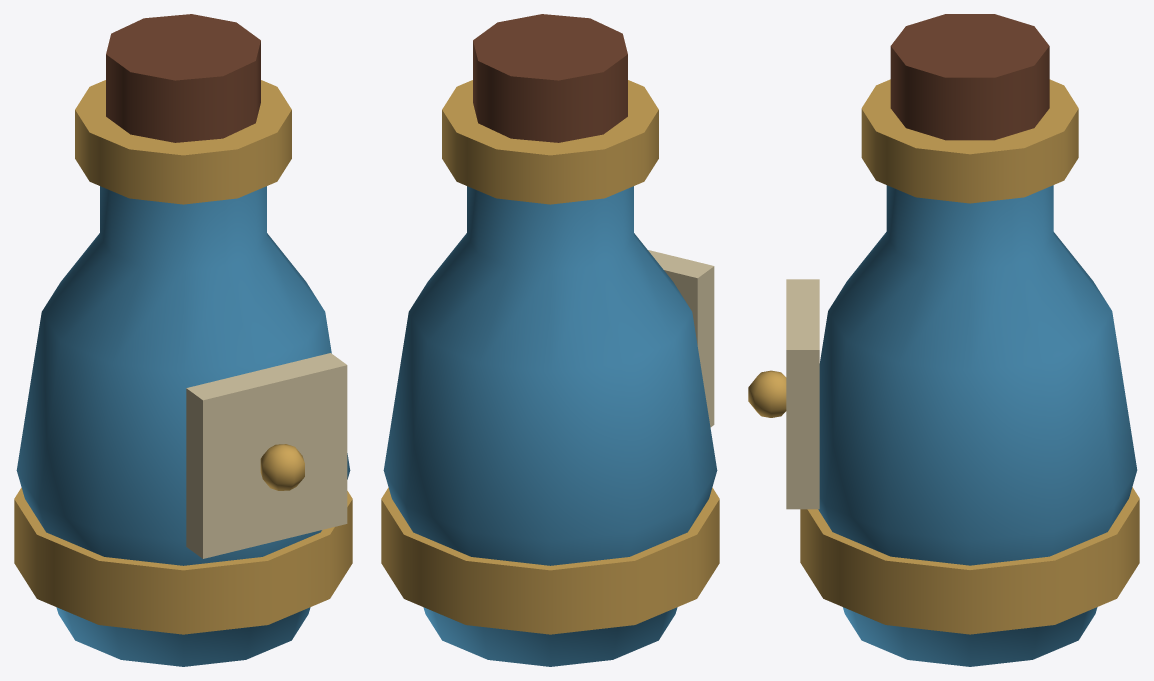
File: ether.fbx
3 views of the same model, side by side, from view 1: azimuth 30°, elevation 25°; view 2: azimuth 150°, elevation 25°; view 3: azimuth 270°, elevation 25° (orthographic).
Visible parts, largest first — view 1: ether; view 2: ether; view 3: ether.
Part boxes in pixels (x1,y1,x2,y2): ether: (14,14,352,666); ether: (381,14,719,666); ether: (748,14,1139,666).
Bounding box in the file's own units: 0.406 × 0.75 × 0.4686.
